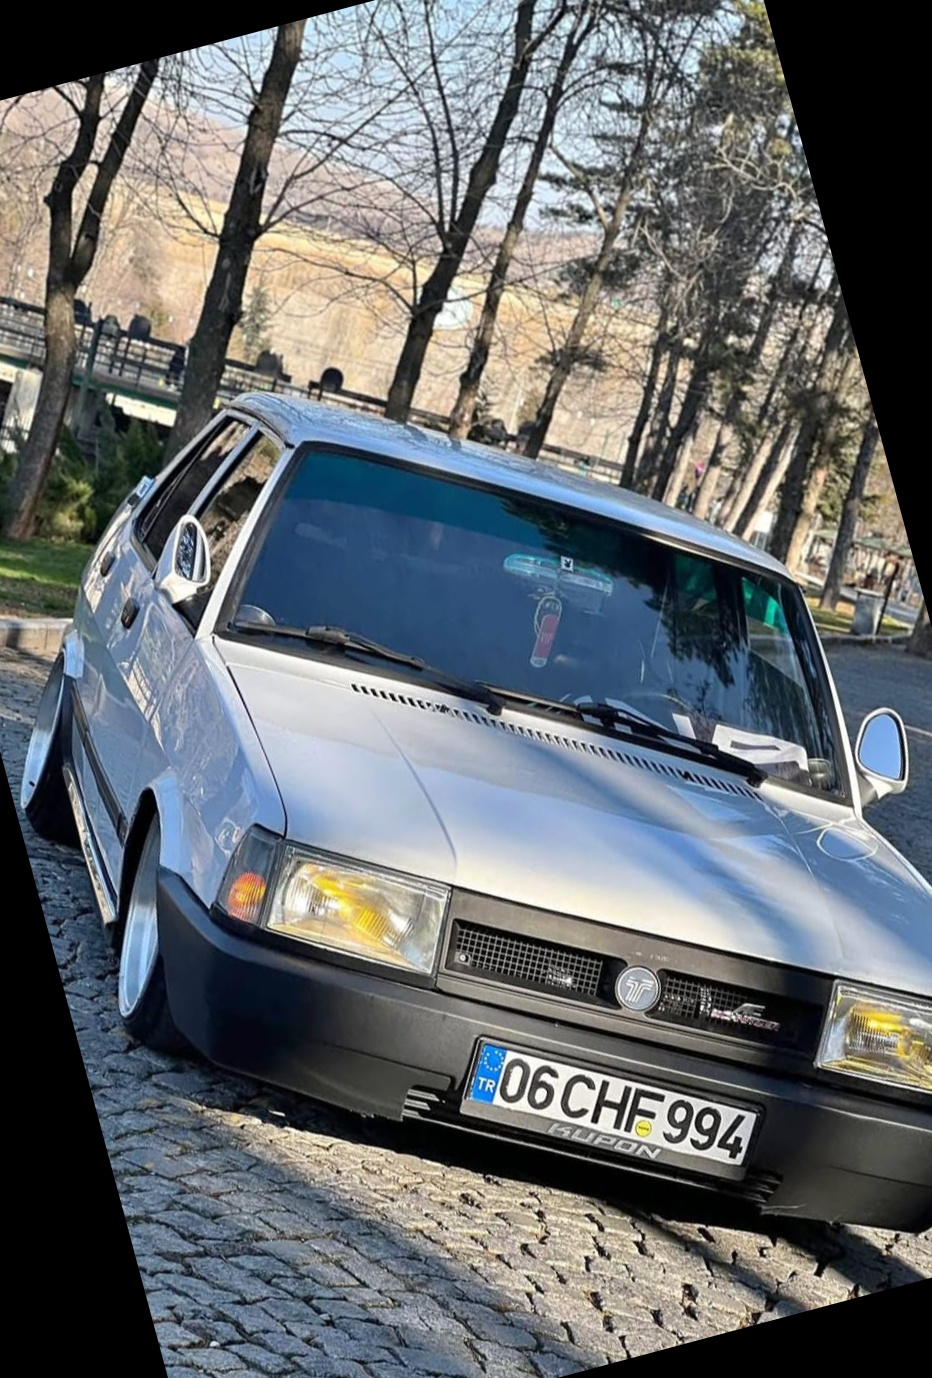plaka: (494, 1053, 758, 1167)
